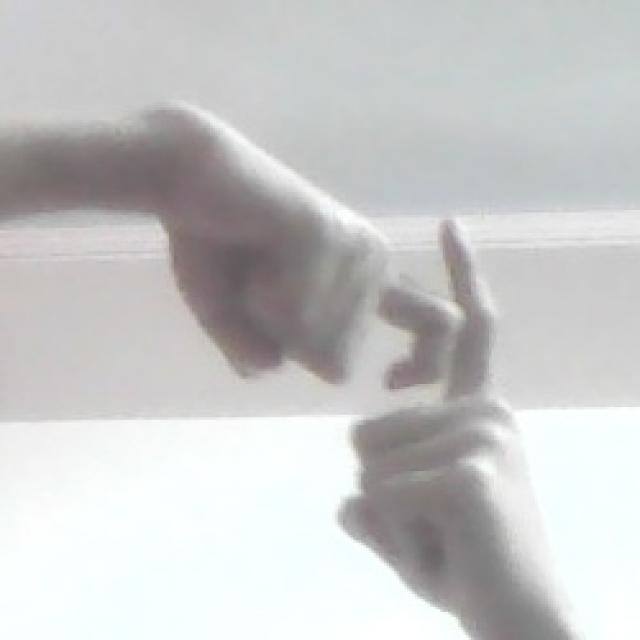Alphabet-K: (146, 92, 550, 640)
